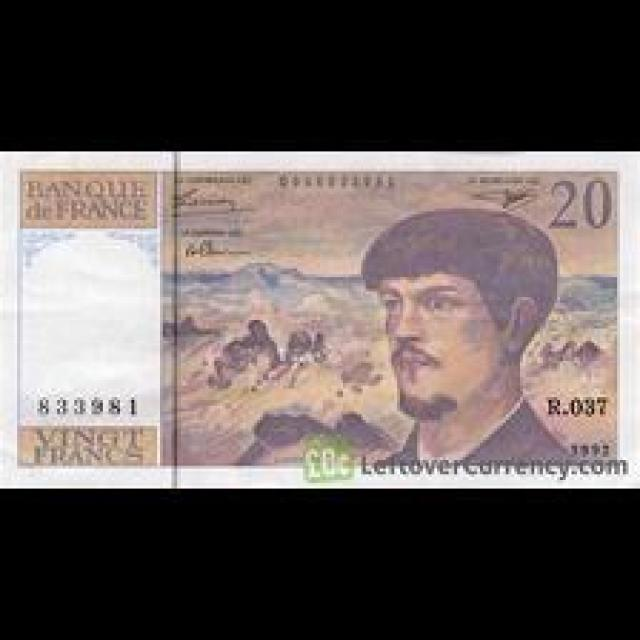banknote: (1, 149, 640, 490), (550, 171, 616, 238)
